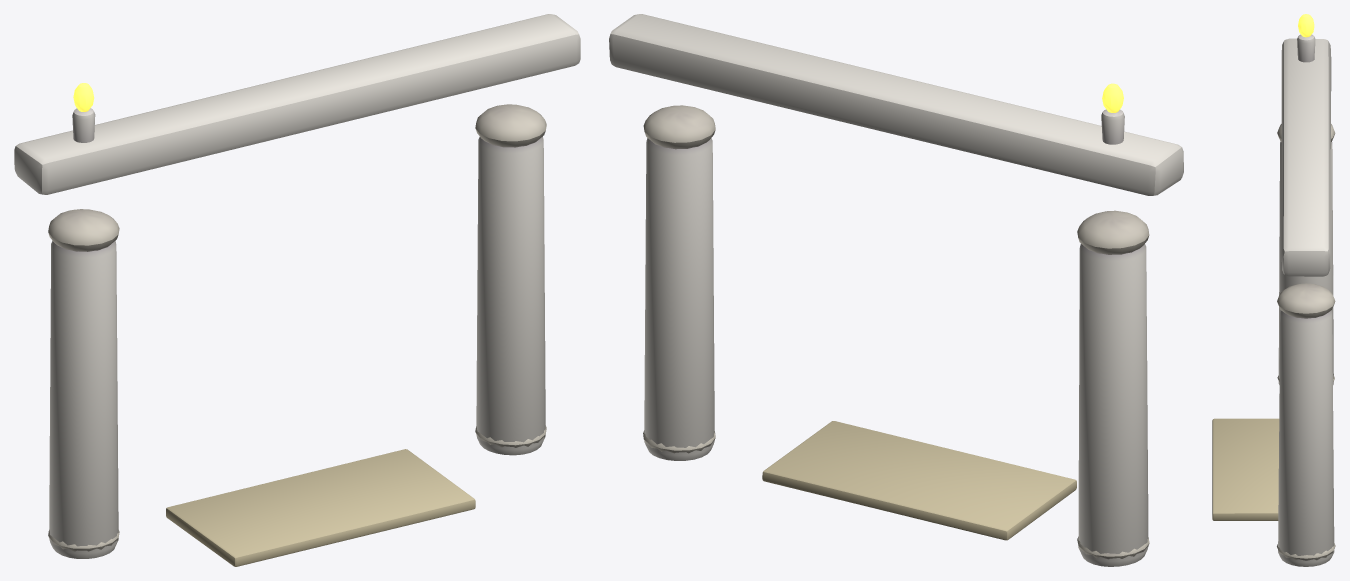
3 views of the same model, side by side, from view 1: azimuth 30°, elevation 25°; view 2: azimuth 150°, elevation 25°; view 3: azimuth 270°, elevation 25° (orthographic). The views are drawn at different scales.
Visible parts, largest first — view 1: gate_a0309dcd; view 2: gate_a0309dcd; view 3: gate_a0309dcd.
Boxes of the visible parts, left/top/right/bottom form: gate_a0309dcd: left=14, top=14, right=580, bottom=566; gate_a0309dcd: left=609, top=14, right=1183, bottom=566; gate_a0309dcd: left=1212, top=14, right=1335, bottom=566.
Bounding box in the file's own units: 5.39 × 4.42 × 1.31.
